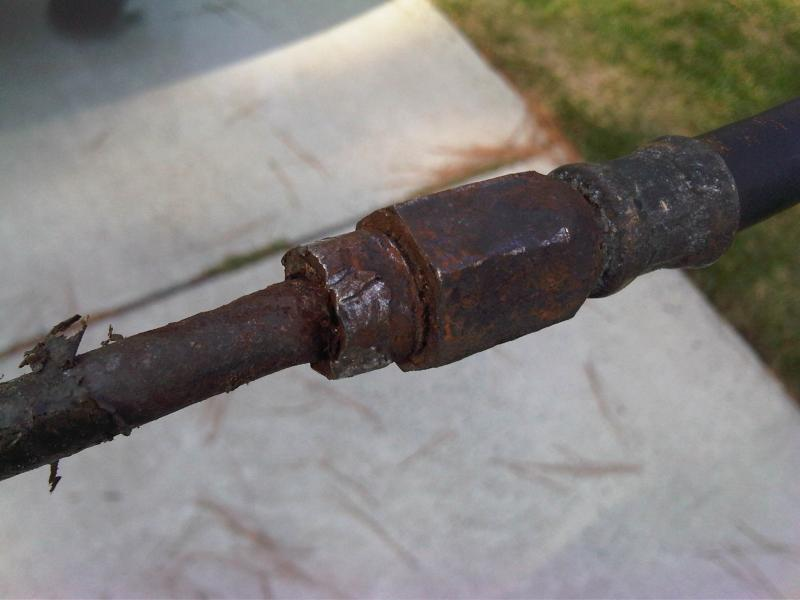Moderate: (214, 176, 612, 380)
